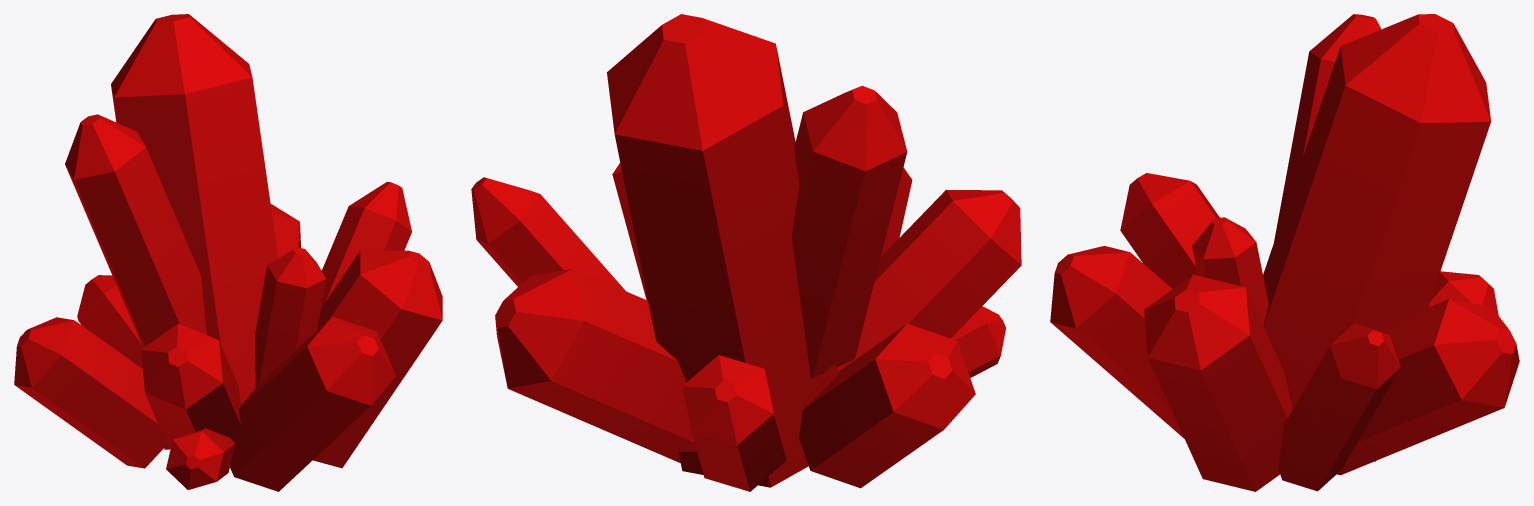
File: geology-crystals-coloredcrystalcluster_v3.fbx
3 renders of one model, left to right at view 1: azimuth 30°, elevation 25°; view 2: azimuth 150°, elevation 25°; view 3: azimuth 270°, elevation 25°, orthographic. The views are drawn at different scales.
Parts seen in each view (by area): view 1: ColoredCrystalCluster_v3; view 2: ColoredCrystalCluster_v3; view 3: ColoredCrystalCluster_v3.
Part boxes in pixels (left/top/right/bottom): ColoredCrystalCluster_v3: left=14, top=14, right=442, bottom=491; ColoredCrystalCluster_v3: left=471, top=14, right=1021, bottom=491; ColoredCrystalCluster_v3: left=1050, top=14, right=1519, bottom=491.
Size of the model in its own units: 9.54 by 9.51 by 9.14.
